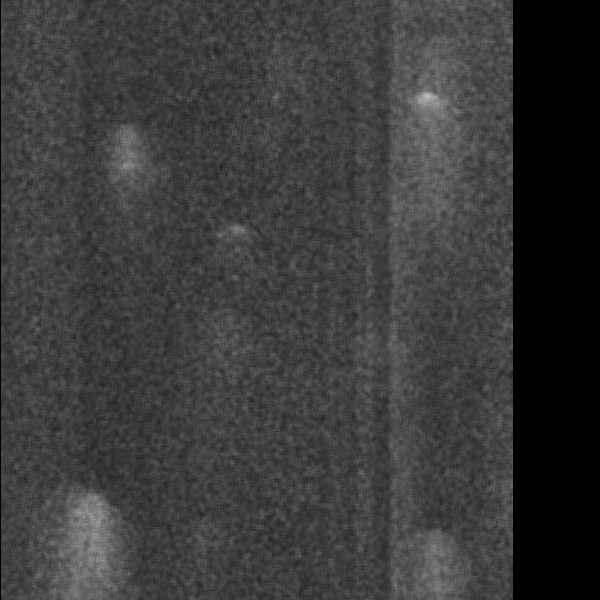spark: (42, 488, 133, 600), (101, 114, 153, 208), (396, 83, 458, 127)
